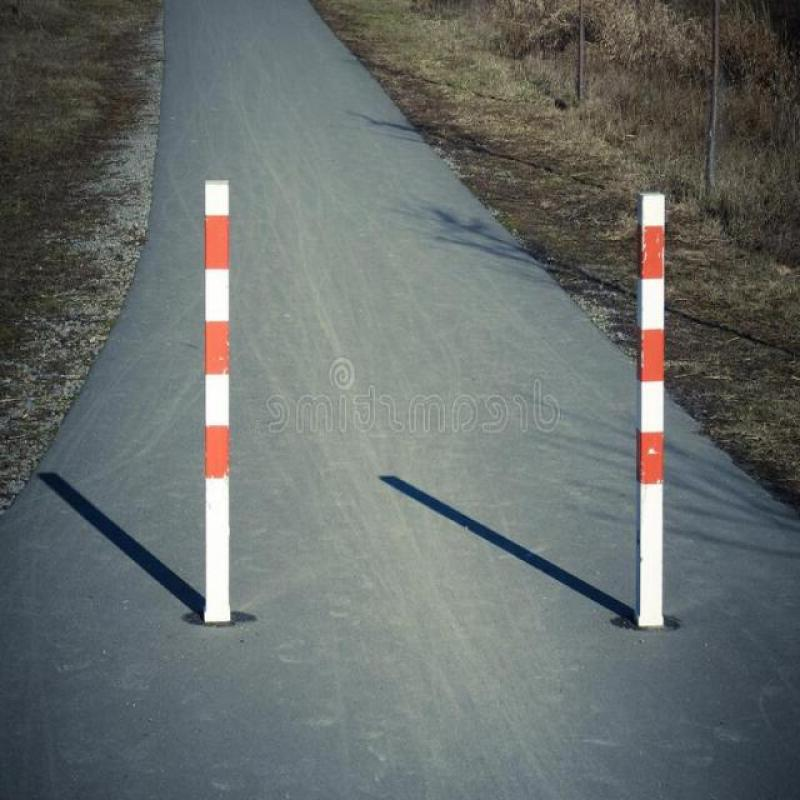pillar: (622, 186, 678, 648), (190, 165, 240, 639)
